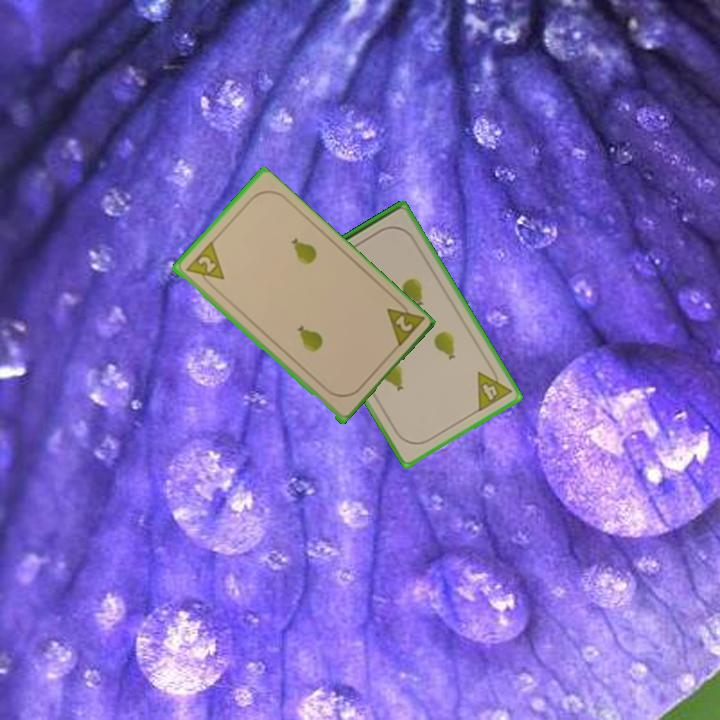2p: (382, 295, 426, 351), (181, 239, 227, 291)
4p: (474, 362, 515, 415)
